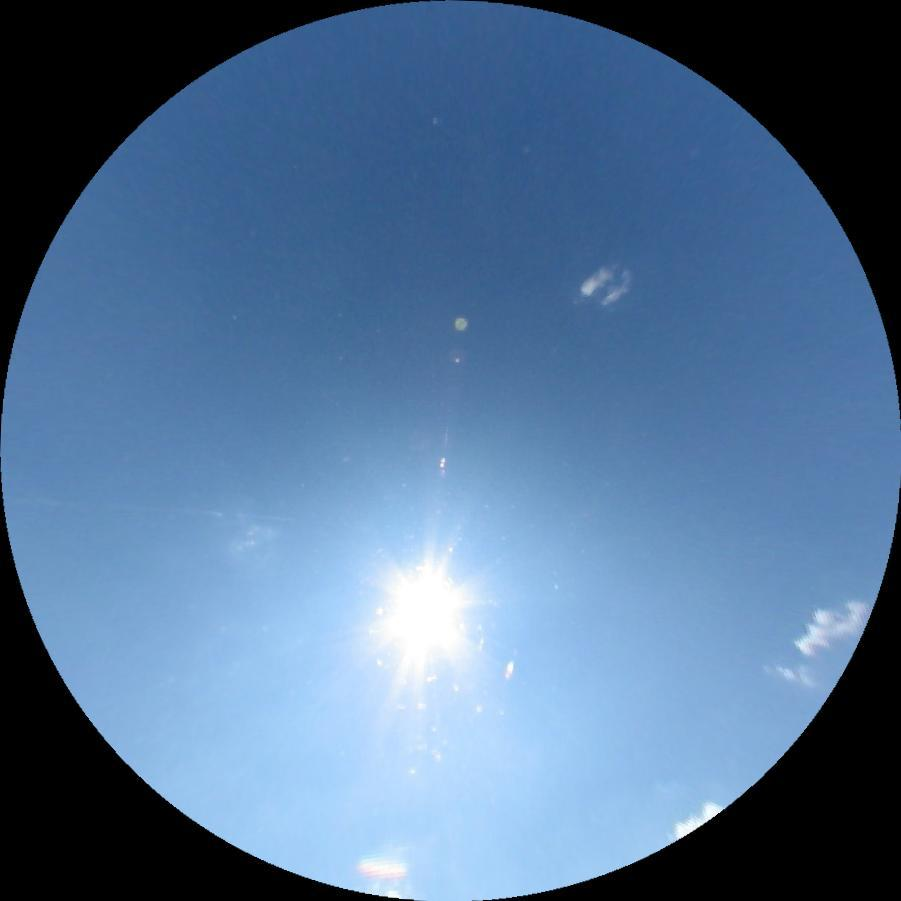parasite: (3, 496, 300, 523)
sun: (363, 552, 485, 676)
